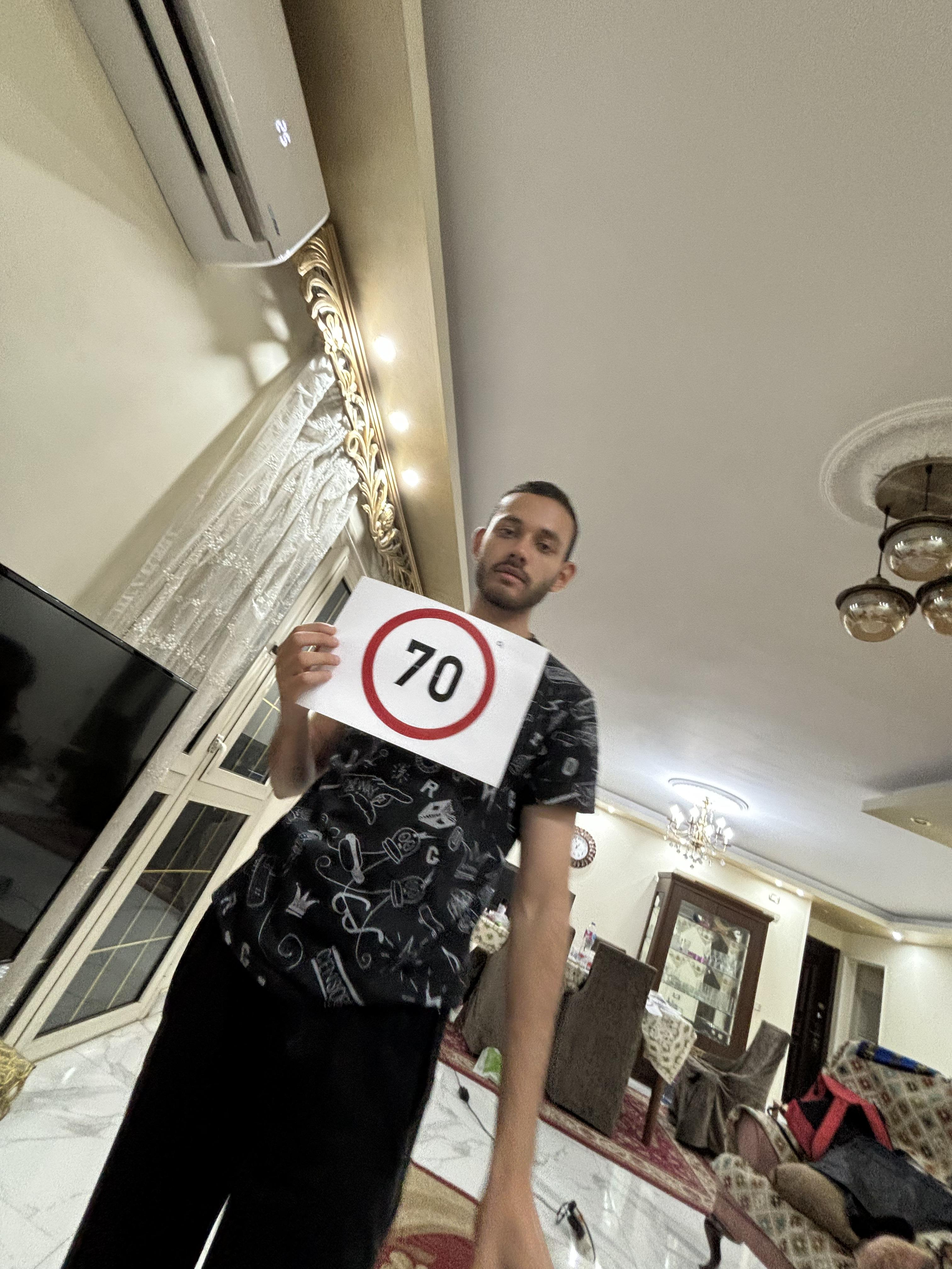70-Speed: (357, 604, 500, 746)
